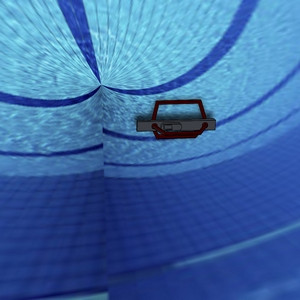submarine: (129, 88, 226, 159)
